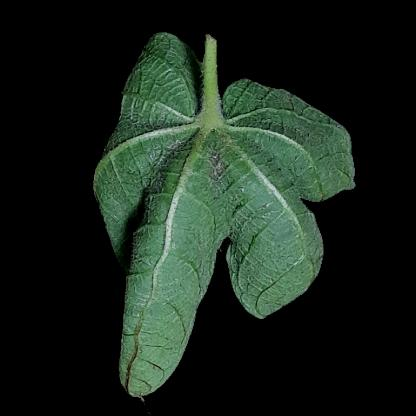curl_stage2: (225, 99, 317, 251), (136, 75, 206, 256), (133, 267, 174, 367), (234, 257, 300, 305), (102, 144, 137, 224), (320, 130, 350, 184)
